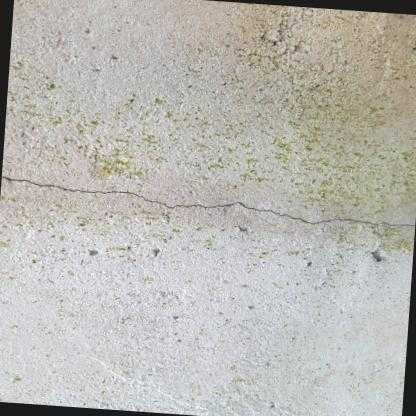crack: (1, 174, 400, 228)
